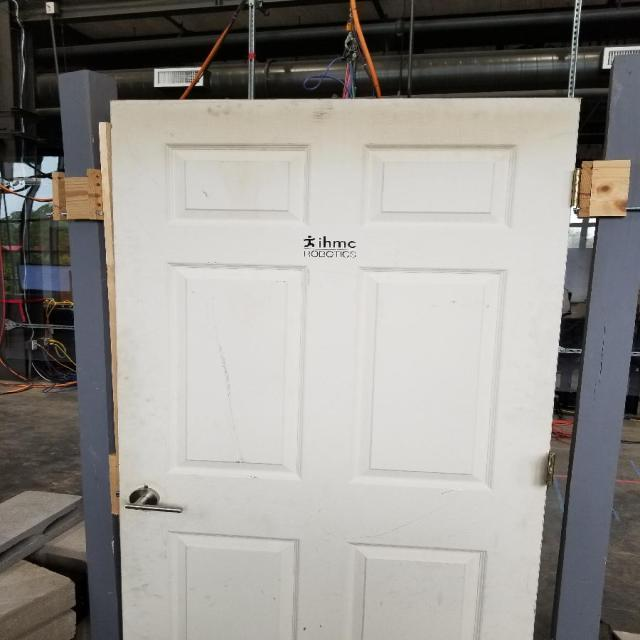door: (123, 484, 188, 517)
